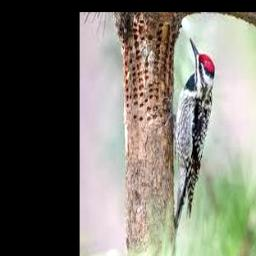Woodpecker: (172, 36, 214, 233)
